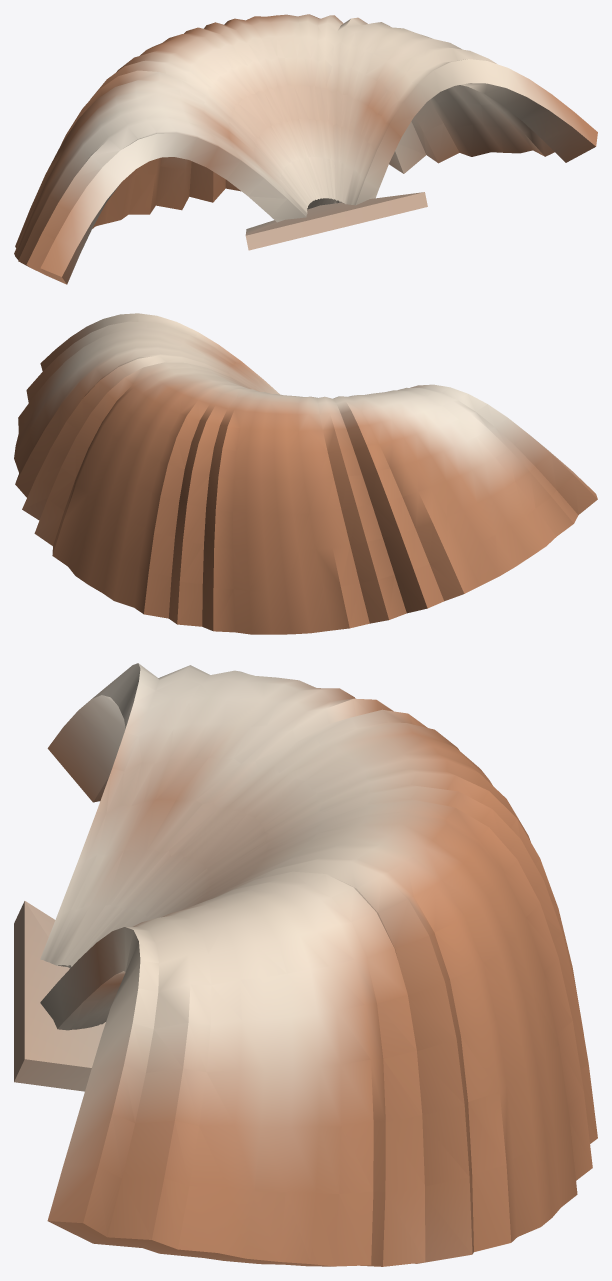
File: shore_cockle.glb
3 renders of one model, top to bottom at view 1: azimuth 30°, elevation 25°; view 2: azimuth 150°, elevation 25°; view 3: azimuth 270°, elevation 25°, orthographic. The views are drawn at different scales.
Visible parts, largest first — view 1: shore_cockle; view 2: shore_cockle; view 3: shore_cockle.
Boxes of the visible parts, x1,y1,x2,y2 form: shore_cockle: (14,14,597,284); shore_cockle: (14,313,597,634); shore_cockle: (14,663,597,1266).
Size of the model in its own units: 10.2 by 3.5 by 5.1.
